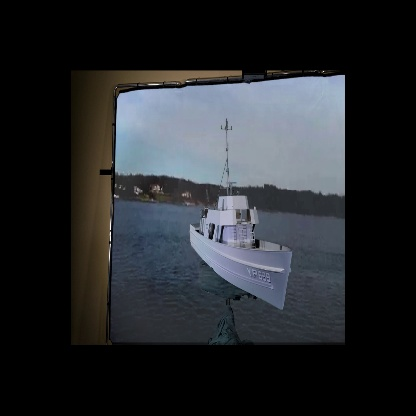YP689: (189, 117, 293, 311)
